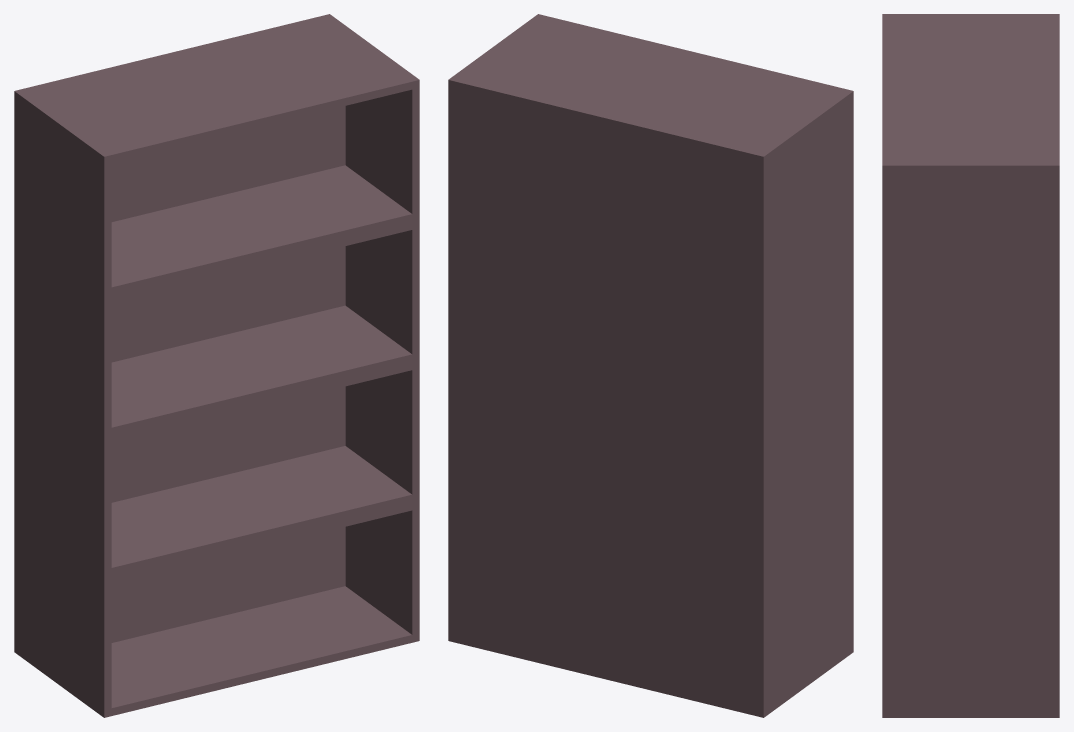
The model's file is Bookshelf.fbx.
3 renders of one model, left to right at view 1: azimuth 30°, elevation 25°; view 2: azimuth 150°, elevation 25°; view 3: azimuth 270°, elevation 25°, orthographic.
Parts seen in each view (by area): view 1: BookShelf; view 2: BookShelf; view 3: BookShelf.
Boxes of the visible parts, x1,y1,x2,y2 form: BookShelf: (14,14,419,717); BookShelf: (448,14,853,717); BookShelf: (882,14,1059,717).
Size of the model in its own units: 92.68 by 157 by 45.77.
Materials: 1 (1 with a texture image).
